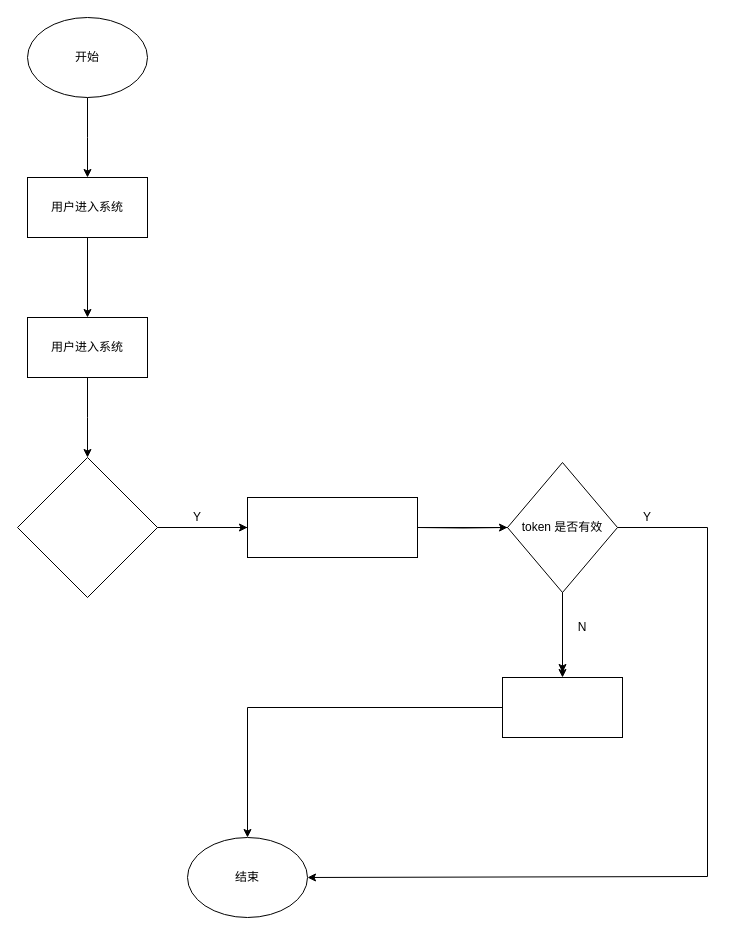
The diagram is 733 pixels wide and 935 high, and some of its shapes have lost their labels. The shapes that lost their labels are listed below. From the top down, each one's box as (x1, y1, x2, y2) in pixels, then its label:
(16, 456, 158, 598): 本地存储是否有token
(246, 496, 418, 558): 携带token 去获取用户信息
(502, 676, 622, 738): 显示用户登录界面
